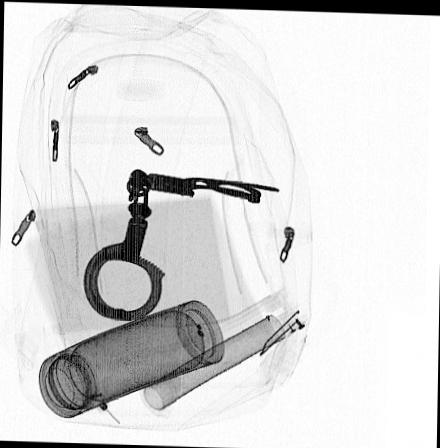HandCuffs: (82, 166, 281, 320)
